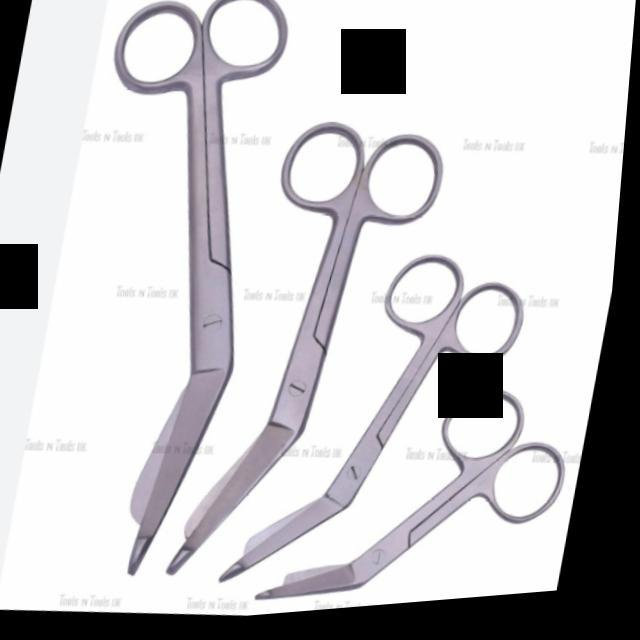Bandage Sciccors: (21, 0, 311, 597), (136, 99, 464, 608), (180, 232, 544, 619), (252, 366, 591, 622)
